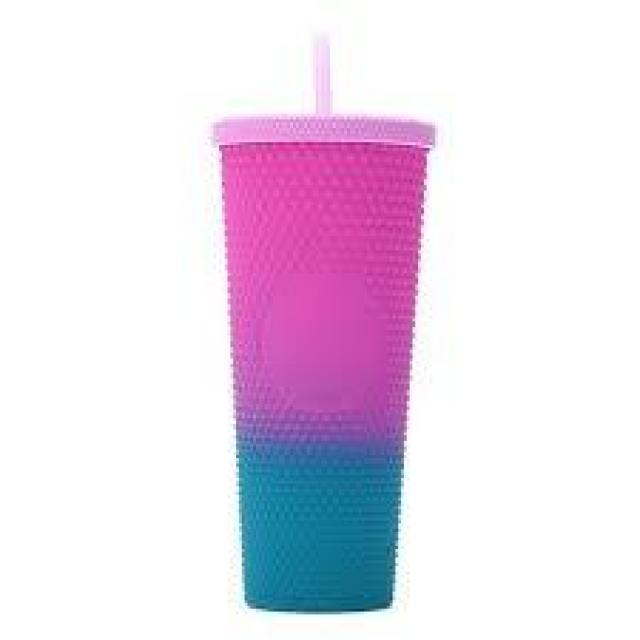bottle: (209, 35, 437, 616)
